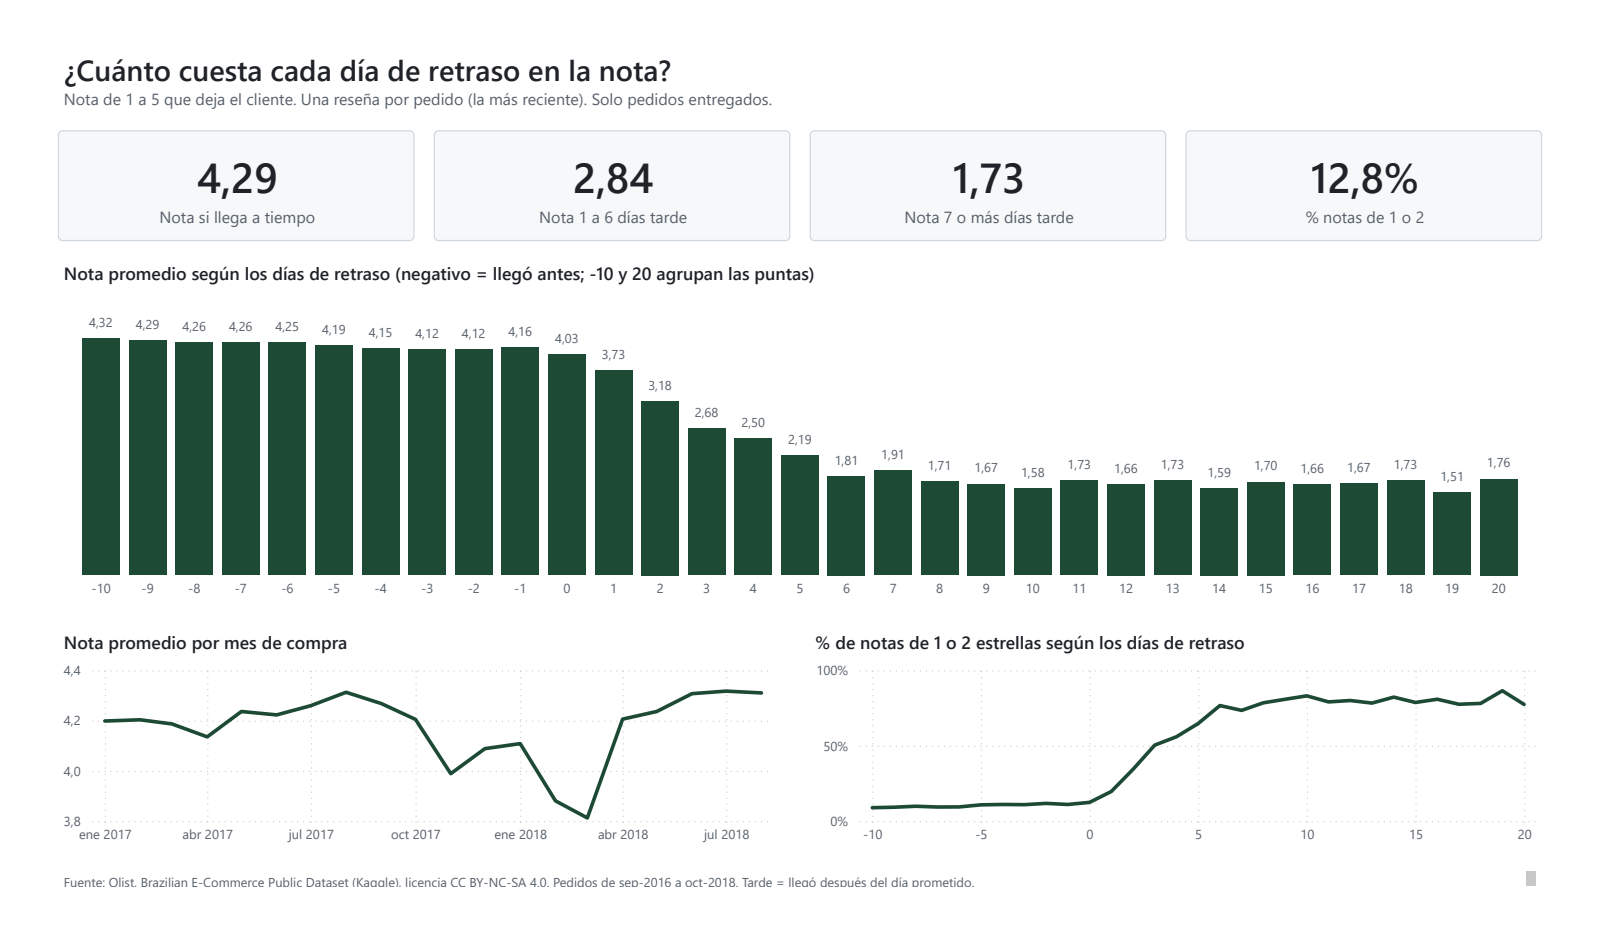

Layout of this report page (visuals, bound fields, positions):
{"tool":"powerbi","page":{"name":"Reseñas","canvas":[1280,720],"ordinal":3},"visuals":[{"type":"textbox","box":[24,12,1232,64],"z":0},{"type":"textbox","box":[24,694,1232,22],"z":1000},{"type":"card","fields":{"Values":["Medidas.Nota si llega a tiempo"]},"box":[24,84,296,92],"z":2000},{"type":"card","fields":{"Values":["Medidas.Nota 1 a 6 días tarde"]},"box":[336,84,296,92],"z":3000},{"type":"card","fields":{"Values":["Medidas.Nota 7 o más días tarde"]},"box":[648,84,296,92],"z":4000},{"type":"card","fields":{"Values":["Medidas.% notas de 1 o 2"]},"box":[960,84,296,92],"z":5000},{"type":"clusteredColumnChart","title":"Nota promedio según los días de retraso (negativo = llegó antes; -10 y 20 agrupan las puntas)","fields":{"Category":["Pedidos.tramo_retraso"],"Y":["Medidas.Nota promedio"]},"box":[24,192,1232,290],"z":6000},{"type":"lineChart","title":"Nota promedio por mes de compra","fields":{"Category":["Calendario.inicio_mes"],"Y":["Medidas.Nota promedio (meses completos)"]},"box":[24,498,608,188],"z":7000},{"type":"lineChart","title":"% de notas de 1 o 2 estrellas según los días de retraso","fields":{"Category":["Pedidos.tramo_retraso"],"Y":["Medidas.% notas de 1 o 2"]},"box":[648,498,608,188],"z":8000}]}

Visuals, with their boxes in screenshot pixels (x1, y1, x2, y2), scaled from the page's 1280x720 canvas onto the 1600x926 screenshot:
textbox: <region>30, 15, 1570, 98</region>
textbox: <region>30, 893, 1570, 921</region>
card - Medidas.Nota si llega a tiempo: <region>30, 108, 400, 226</region>
card - Medidas.Nota 1 a 6 días tarde: <region>420, 108, 790, 226</region>
card - Medidas.Nota 7 o más días tarde: <region>810, 108, 1180, 226</region>
card - Medidas.% notas de 1 o 2: <region>1200, 108, 1570, 226</region>
"Nota promedio según los días de retraso (negativo = llegó antes; -10 y 20 agrupan las puntas)" clusteredColumnChart: <region>30, 247, 1570, 620</region>
"Nota promedio por mes de compra" lineChart: <region>30, 640, 790, 882</region>
"% de notas de 1 o 2 estrellas según los días de retraso" lineChart: <region>810, 640, 1570, 882</region>
